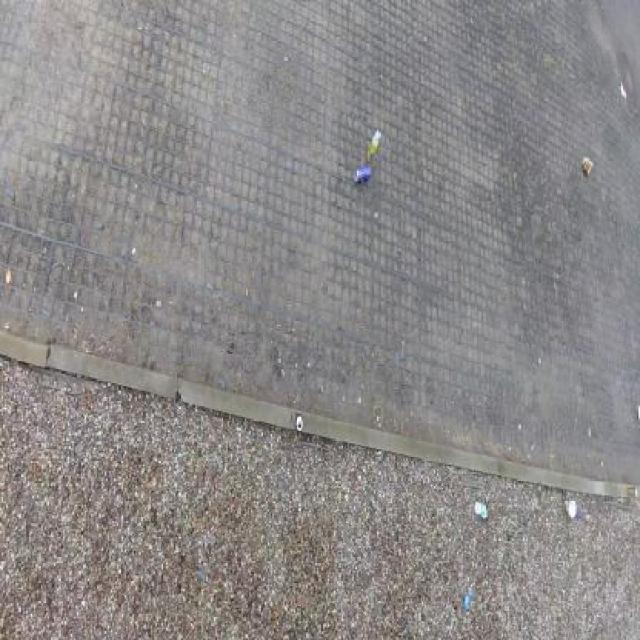Garbage: (367, 131, 380, 162), (563, 498, 576, 519), (581, 155, 594, 176), (475, 502, 488, 520), (355, 168, 370, 181), (619, 81, 627, 102), (294, 413, 303, 430), (464, 594, 470, 610), (628, 487, 637, 496), (637, 405, 639, 420)
